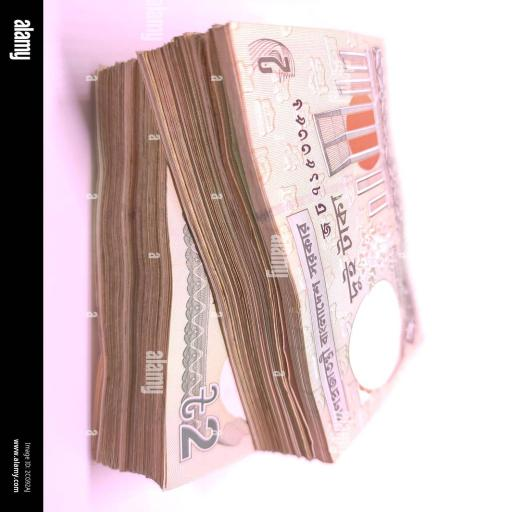2taka: (227, 32, 428, 457)
